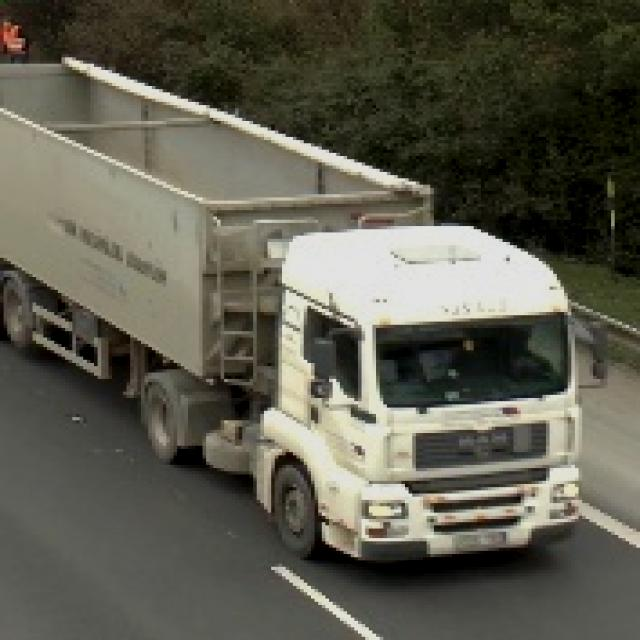TRUCK: (0, 54, 583, 568)
